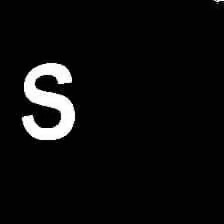LTR_S: (15, 56, 80, 143)
